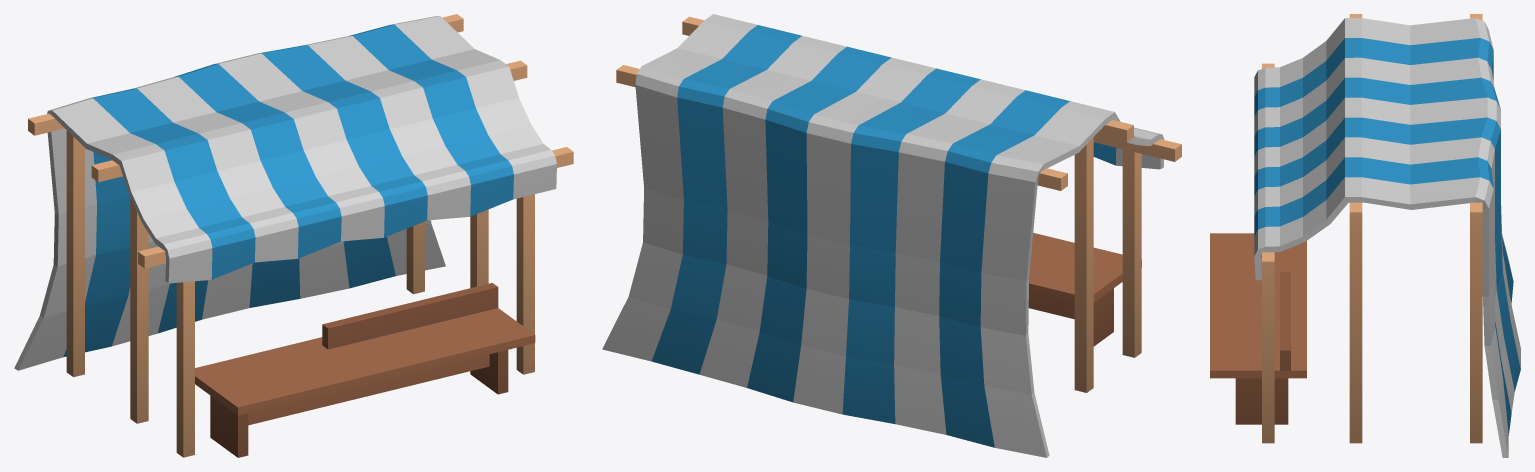
File: food-tent-2.glb
3 views of the same model, side by side, from view 1: azimuth 30°, elevation 25°; view 2: azimuth 150°, elevation 25°; view 3: azimuth 270°, elevation 25° (orthographic). The views are drawn at different scales.
Parts seen in each view (by area): view 1: food tent 2; view 2: food tent 2; view 3: food tent 2.
Part boxes in pixels (left/top/right/bottom): food tent 2: left=14, top=14, right=573, bottom=457; food tent 2: left=602, top=14, right=1181, bottom=457; food tent 2: left=1210, top=14, right=1520, bottom=457.
Bounding box in the file's own units: 4.67 × 2.79 × 3.09.
1 material, 1 textured.
